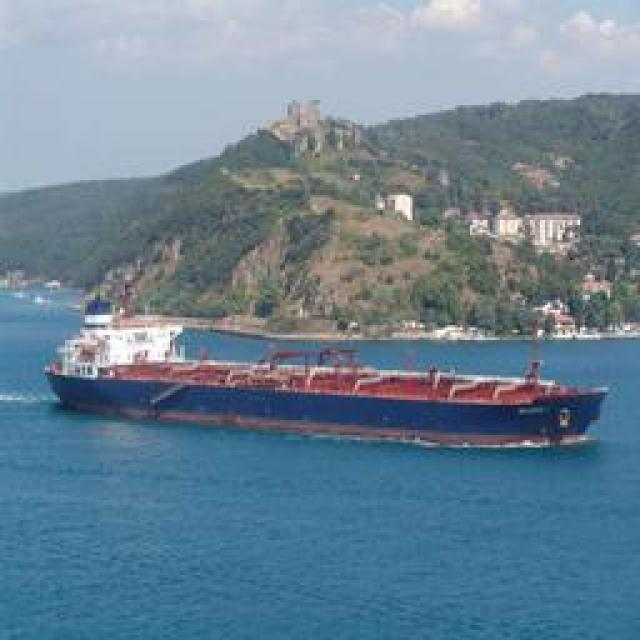CIV_Ship: (50, 328, 605, 444)
